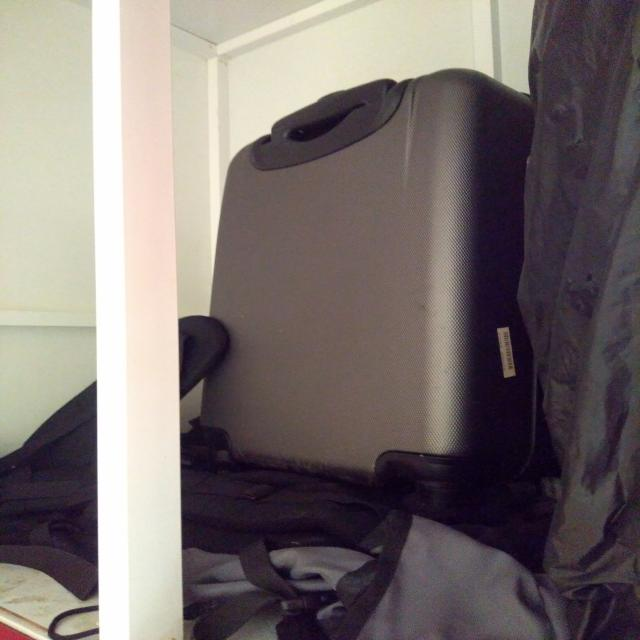suitcaserotation: (195, 65, 538, 530)
